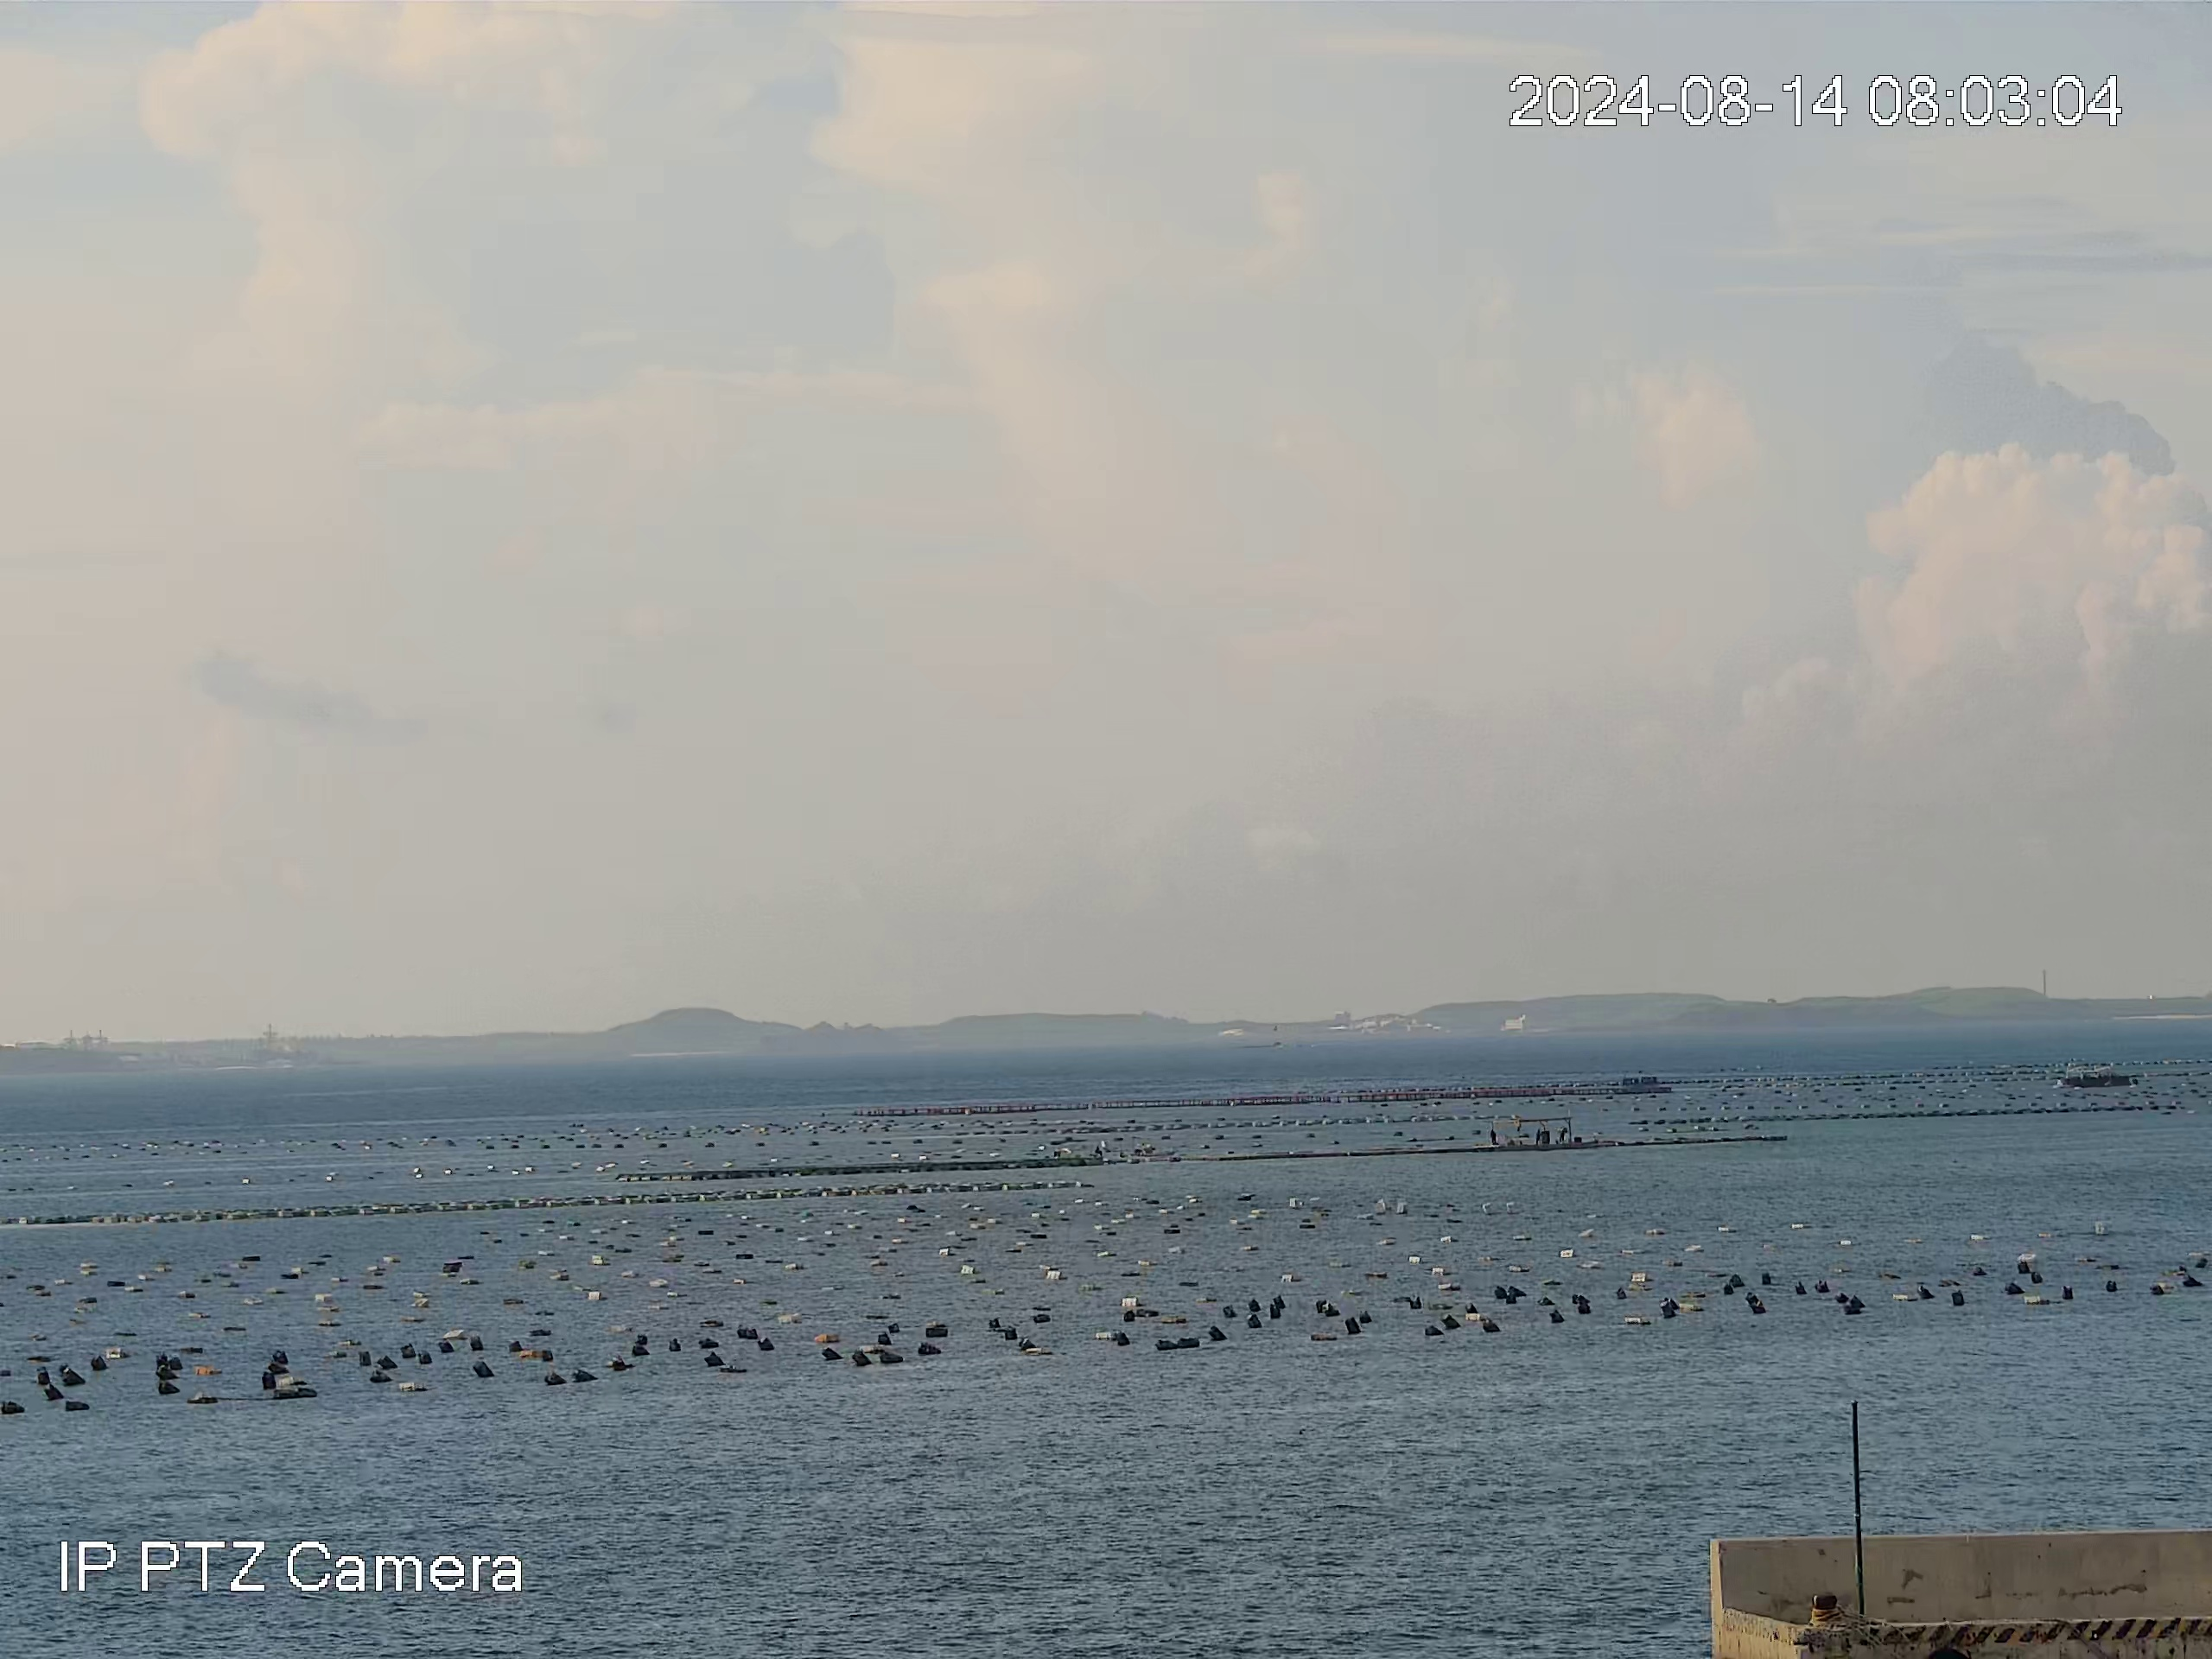boat: (1487, 1114, 1592, 1148), (2060, 1060, 2134, 1087)
